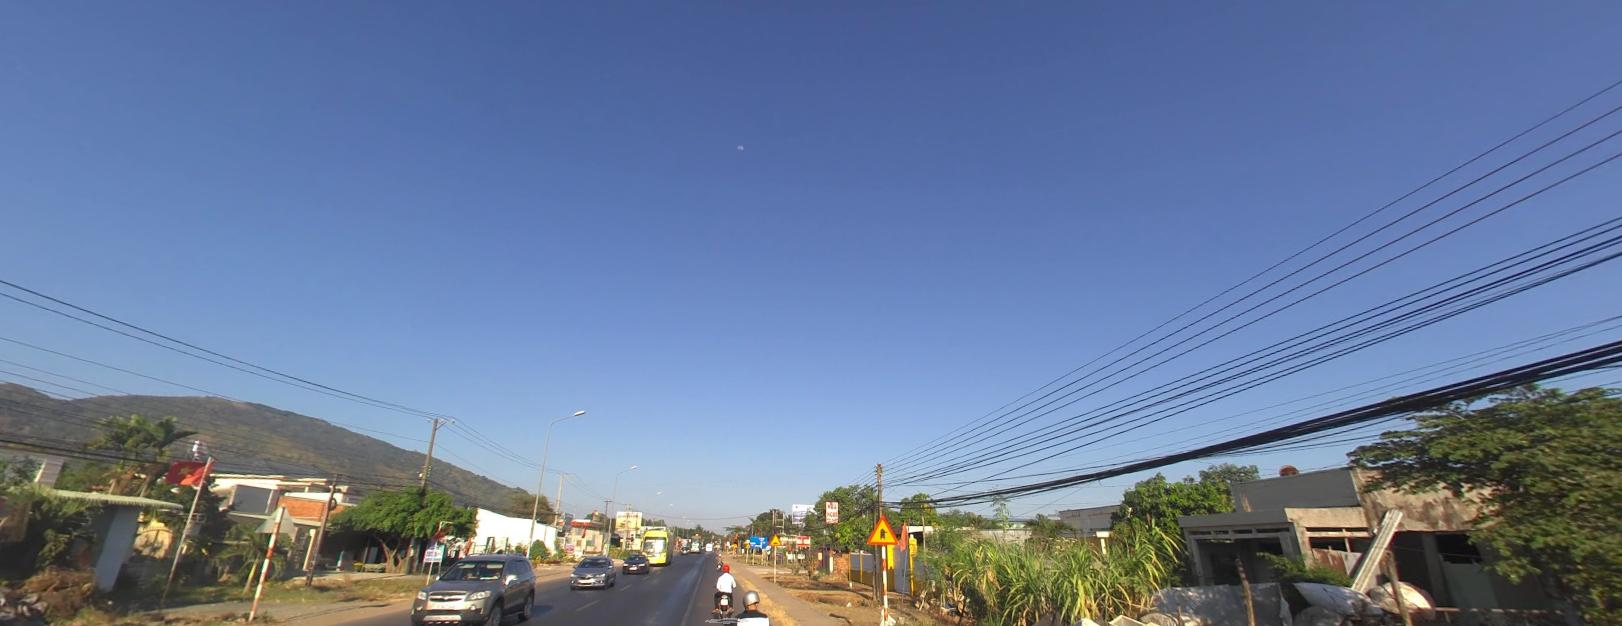Nguy hiem: (867, 514, 899, 546), (768, 532, 781, 545), (744, 542, 751, 549)
